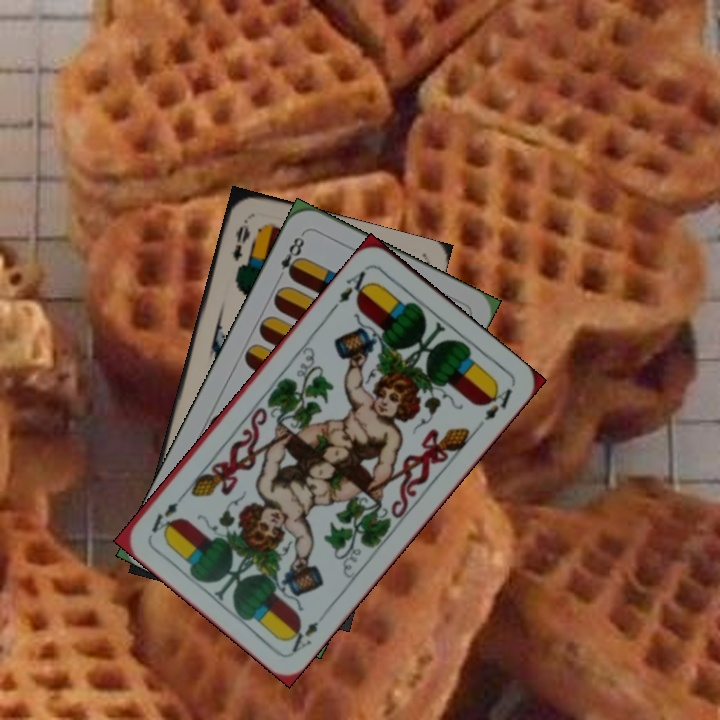E8: (273, 229, 308, 284)
EA: (328, 263, 374, 313), (283, 617, 322, 656)
EO: (228, 222, 253, 264)
